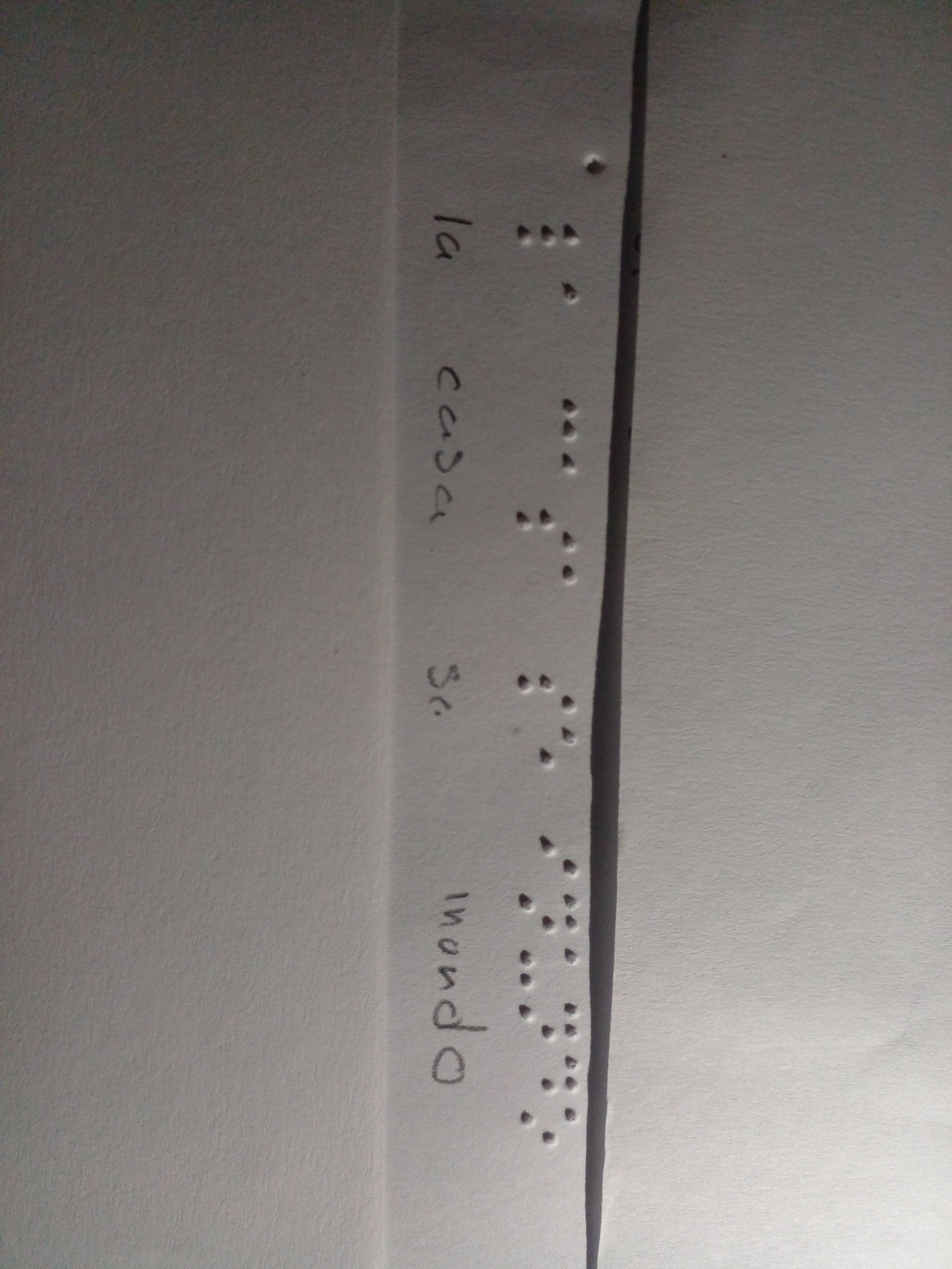a: (550, 553, 589, 599), (556, 449, 592, 490), (562, 274, 587, 324)
c: (558, 380, 590, 451)
d: (514, 1050, 581, 1097)
e: (538, 719, 575, 782)
i: (535, 816, 587, 883)
l: (519, 212, 587, 259)
n: (514, 880, 583, 936), (510, 995, 583, 1044)
o: (522, 1100, 580, 1149)
s: (511, 649, 583, 720), (514, 486, 578, 559)
u: (500, 939, 584, 988)
